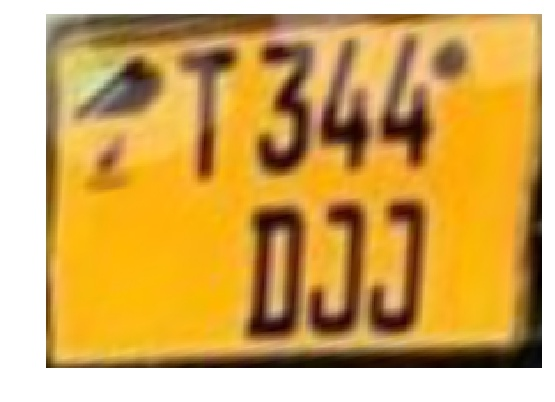T: (165, 42, 248, 184)
